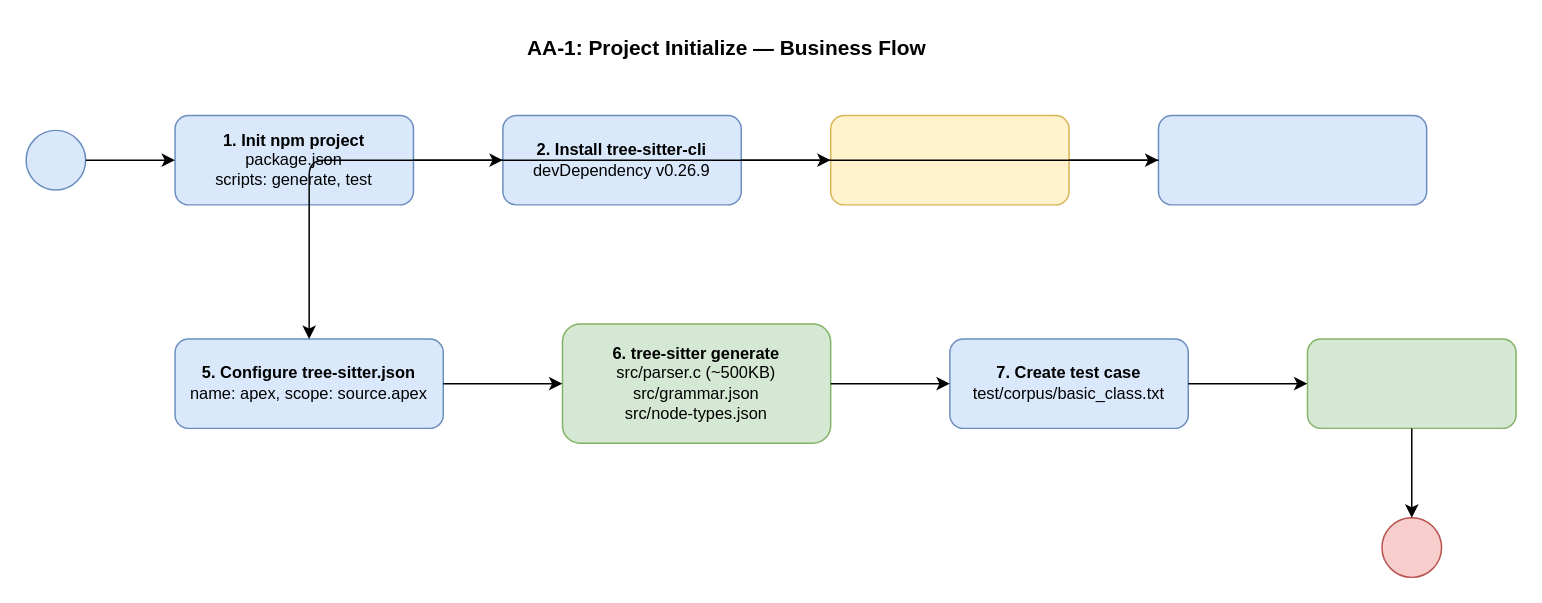
Image size: 1542x603. Some labels were removed from this diagram. Here are the shapes that lost their labels. From the top down, the box of each, then its label:
(829, 114, 1069, 205): 3. Clone sfapex source tree-sitter-sfapex v3.0
(1157, 114, 1427, 205): 4. Create grammar.js require(sfapex) grammar(apexGrammar, {...})
(1306, 337, 1516, 428): 8. tree-sitter test All tests pass
